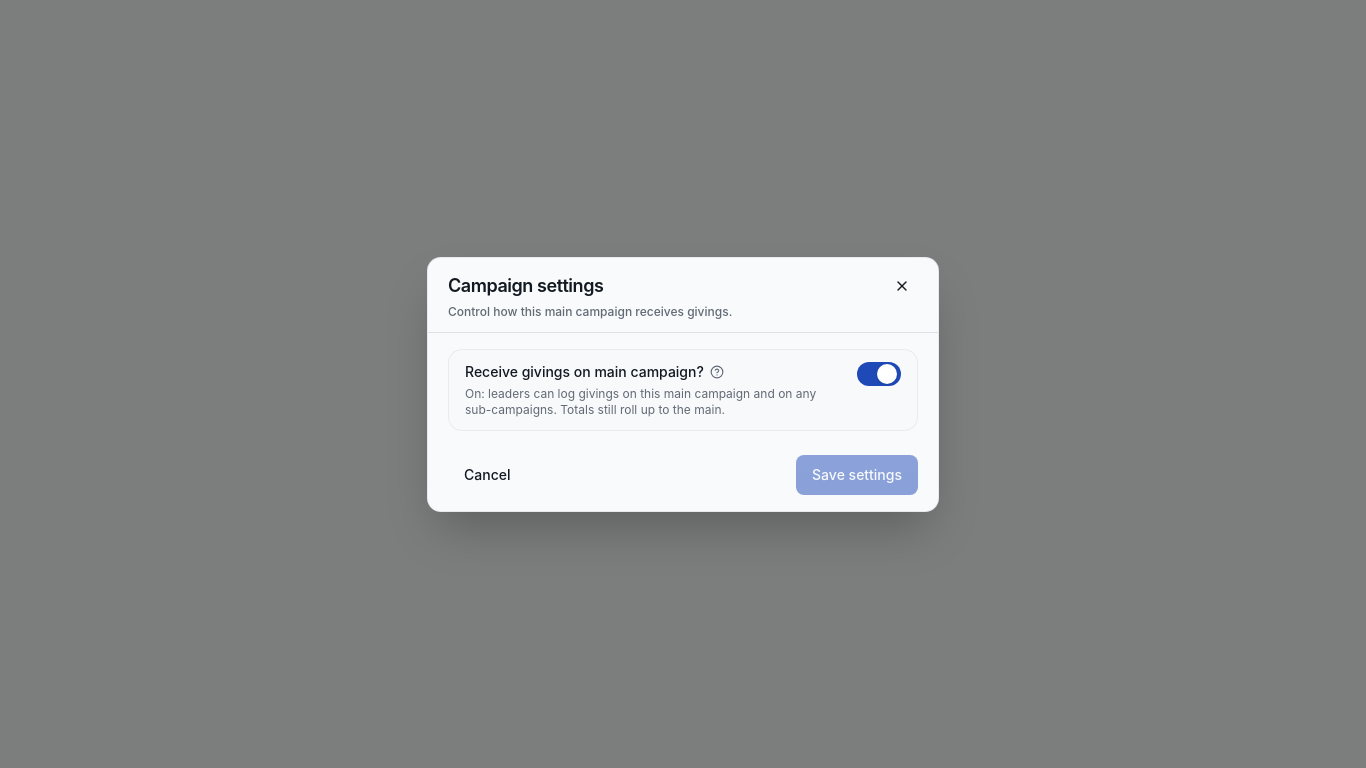
CampaignSettingsModal › turn off with directs opens pick-or-create migrate
The image size is (1366, 768).
Click the switch with test id "settings-receive-givings-on-main" at (879, 374), box x1=857 y1=362 x2=901 y2=386
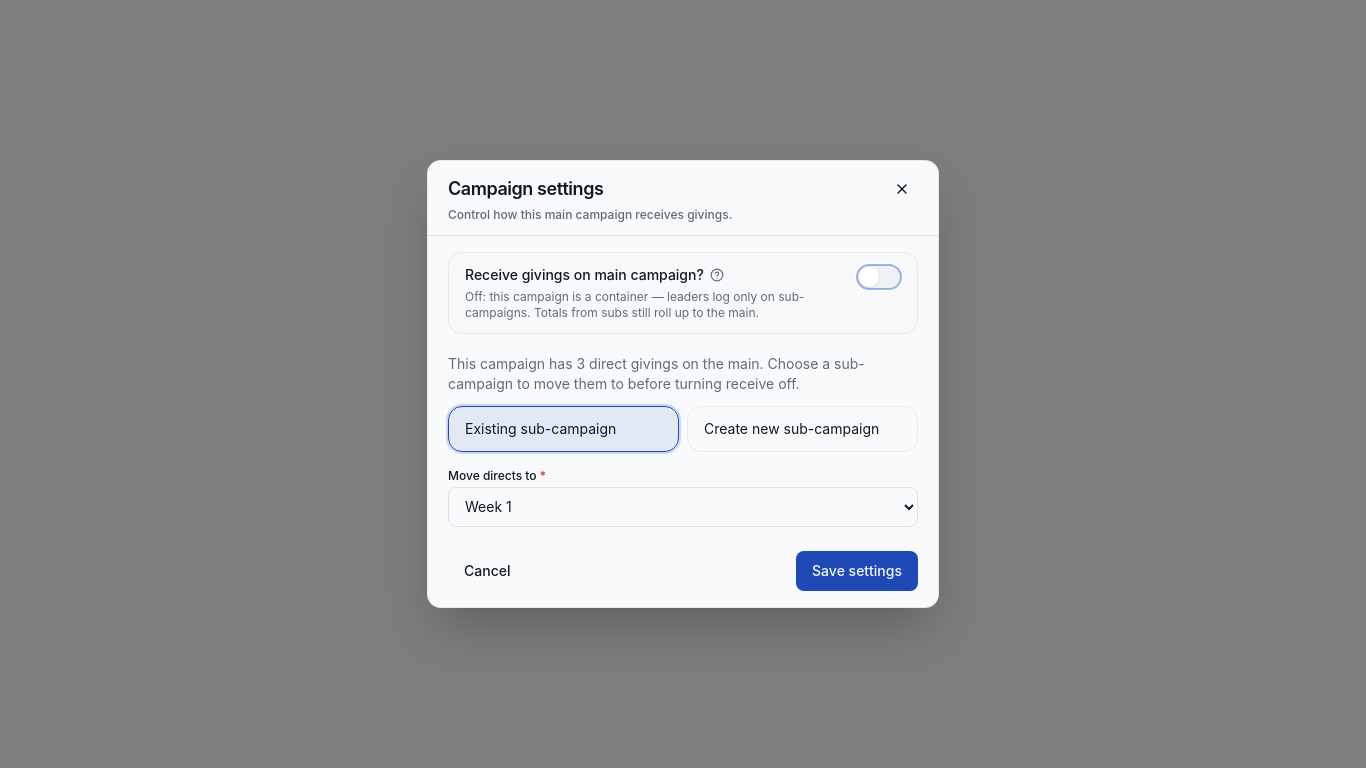
Now the element with test id "migrate-direct-givings" is shown, box x1=448 y1=354 x2=918 y2=527
Now the dropdown with test id "migrate-pick-sub" is shown, box x1=448 y1=487 x2=918 y2=527
Now the button "Create new sub-campaign" is shown, box x1=687 y1=406 x2=918 y2=452
